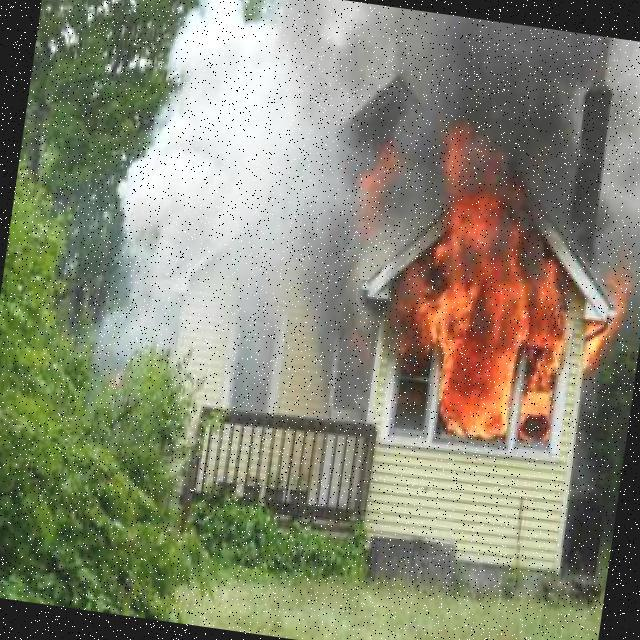Fire: (395, 230, 580, 444), (423, 125, 516, 237), (350, 140, 419, 247), (575, 267, 634, 382)
Smoke: (102, 0, 390, 353), (359, 7, 640, 263)
